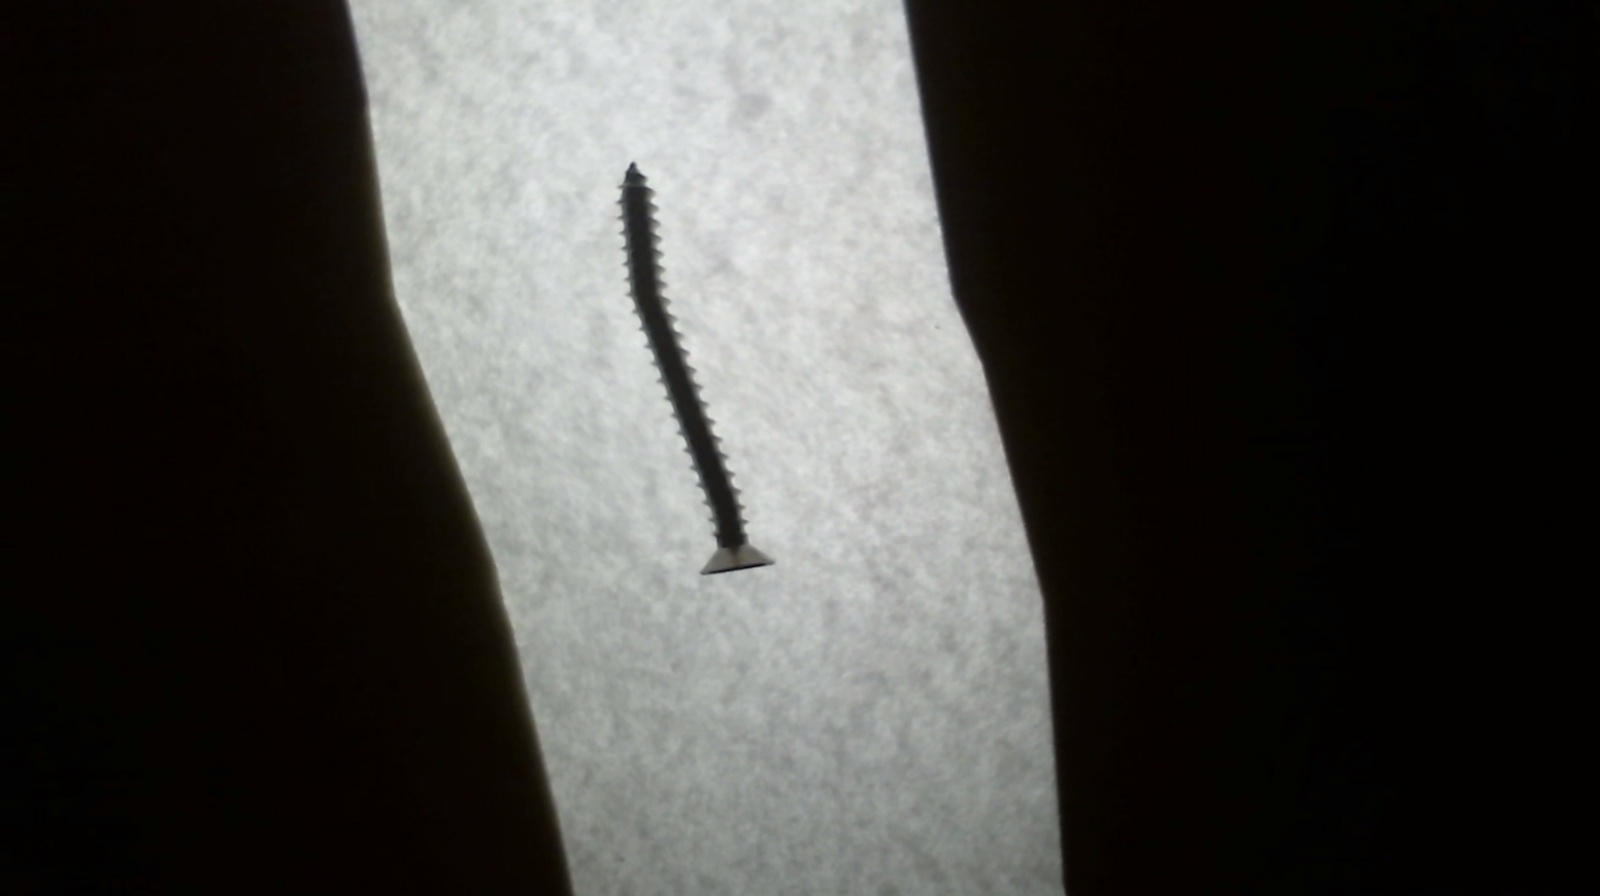S002: (604, 151, 781, 595)
